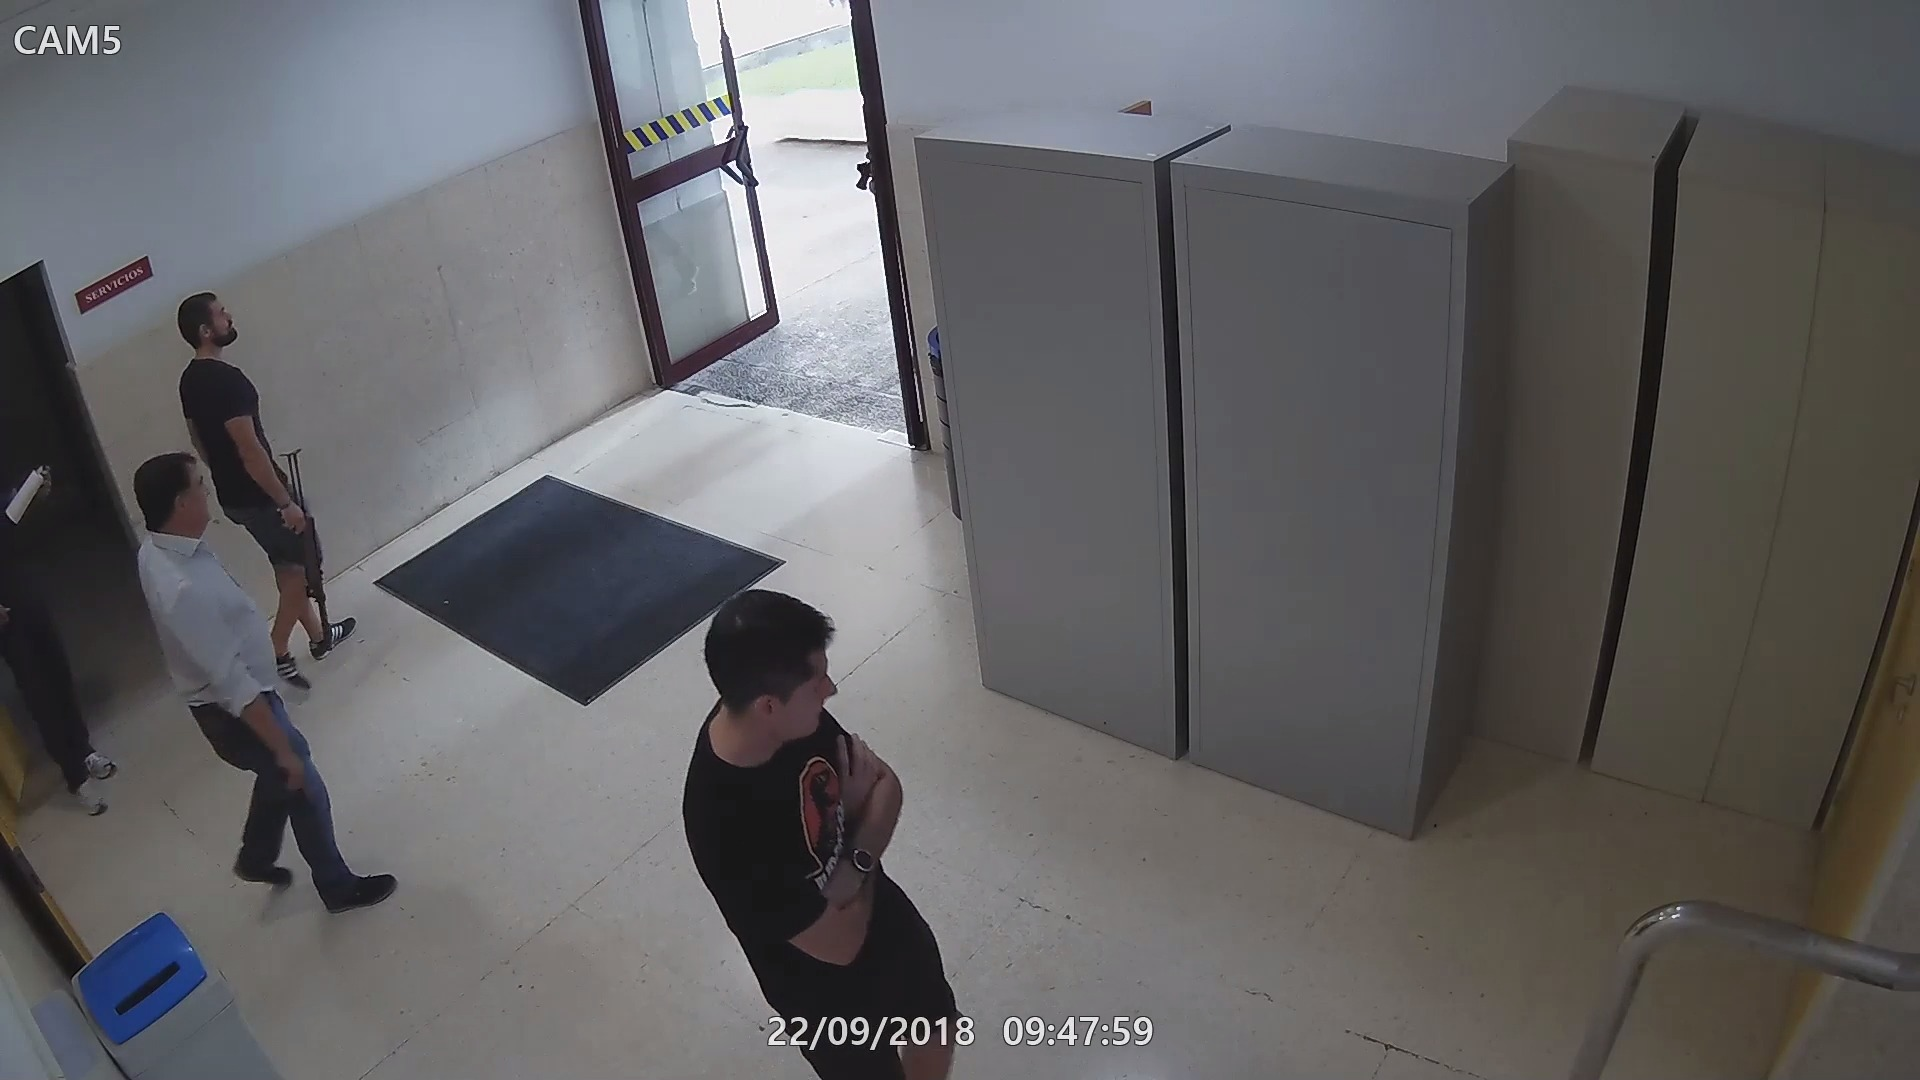Handgun: (272, 754, 320, 822)
Short_rifle: (286, 497, 339, 651), (852, 154, 881, 194)
